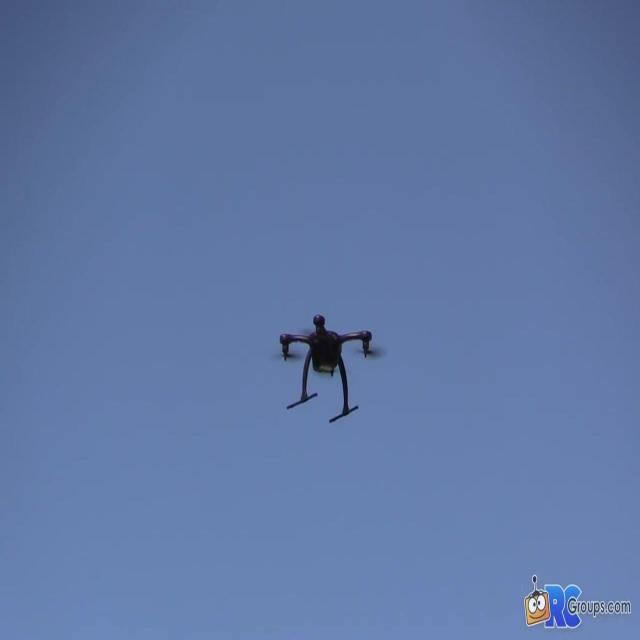drone: (278, 314, 374, 428)
